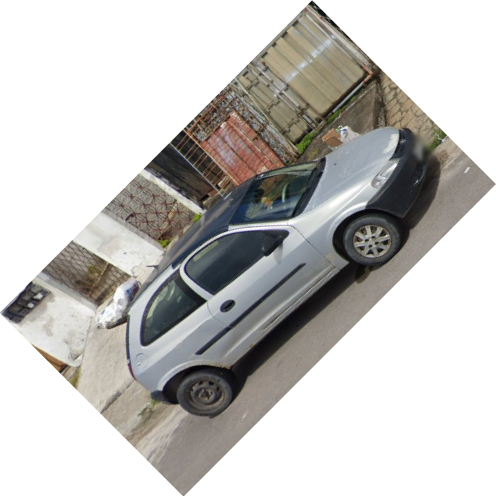car: (122, 126, 433, 418)
